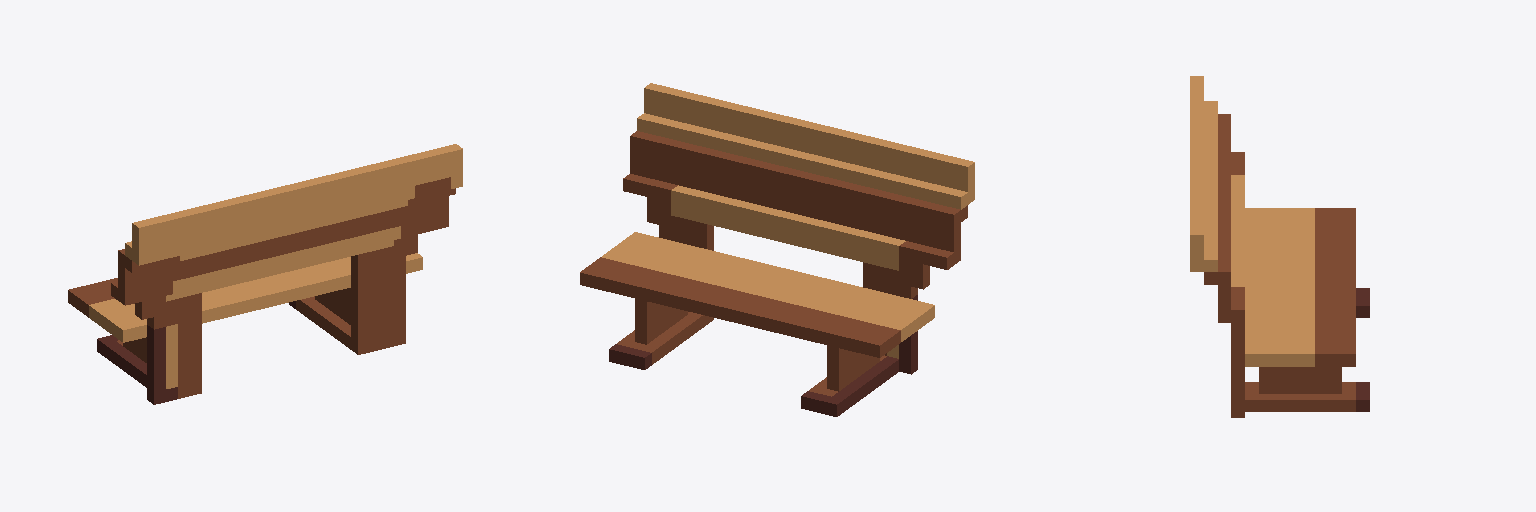
The picture shows the model from 3 angles: view 1: azimuth 30°, elevation 25°; view 2: azimuth 150°, elevation 25°; view 3: azimuth 270°, elevation 25°; orthographic projection.
Visible parts, largest first — view 1: object 1; view 2: object 1; view 3: object 1.
Boxes of the visible parts, x1=… form: object 1: x1=68, y1=144, x2=462, y2=404; object 1: x1=580, y1=83, x2=974, y2=416; object 1: x1=1190, y1=76, x2=1369, y2=417.
Size of the model in its own units: 2.7 by 1.6 by 1.3.
Materials: 1 (1 with a texture image).